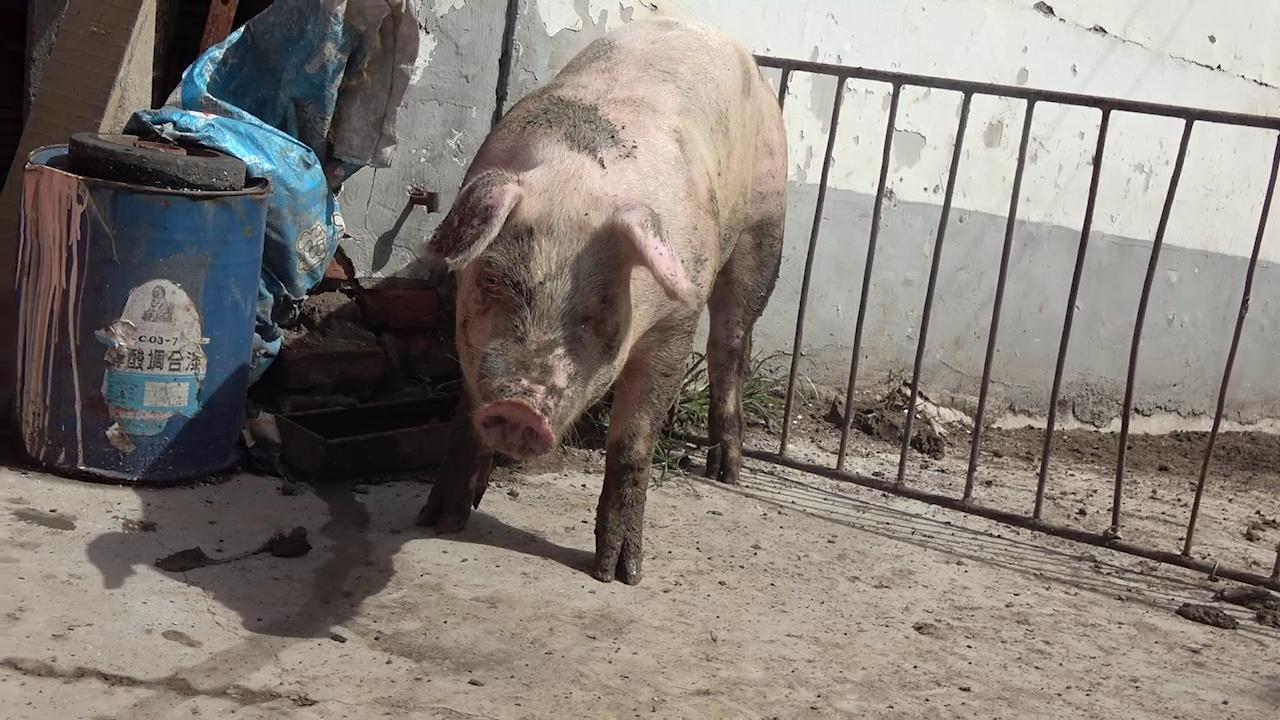Face: (426, 169, 704, 476)
